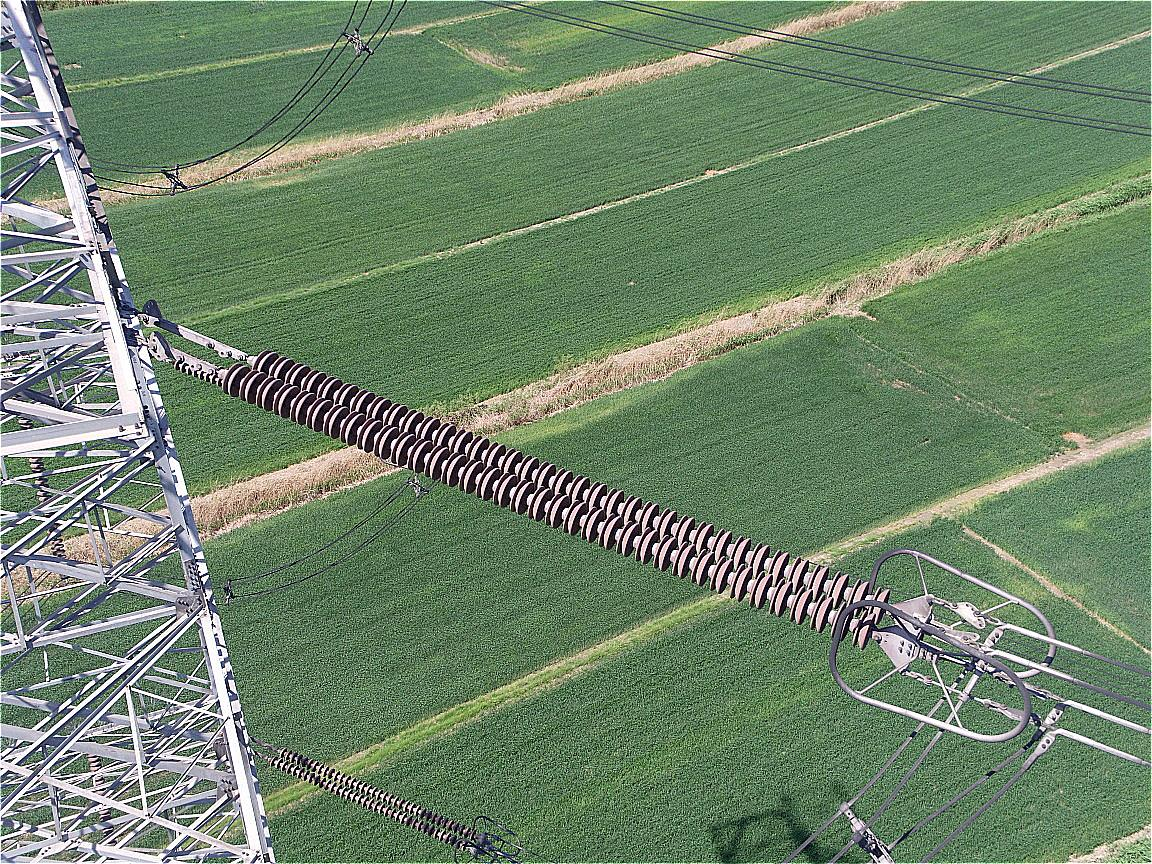insultor1: (271, 750, 476, 852)
insultor2: (226, 347, 891, 646)
